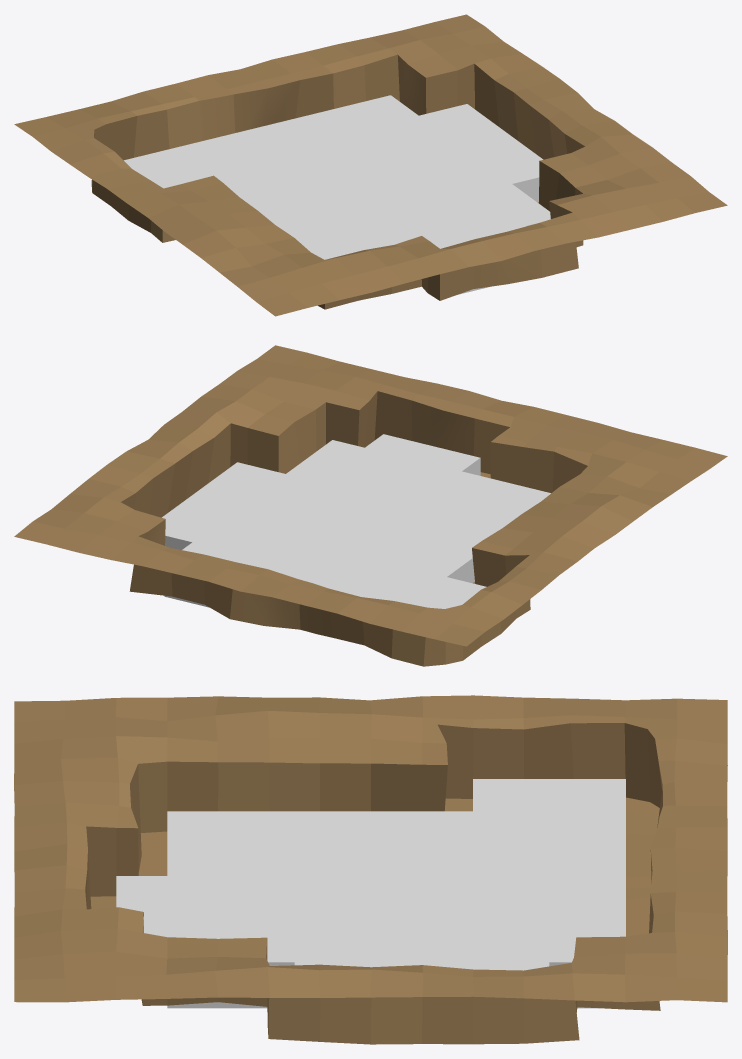
Rendered from Foundations.fbx.
3 renders of one model, top to bottom at view 1: azimuth 30°, elevation 25°; view 2: azimuth 150°, elevation 25°; view 3: azimuth 270°, elevation 25°, orthographic. The views are drawn at different scales.
Visible parts, largest first — view 1: Plane, Cube.003; view 2: Plane, Cube.003; view 3: Plane, Cube.003.
Boxes of the visible parts, x1,y1,x2,y2 form: Plane: (14, 14, 727, 316); Cube.003: (124, 95, 550, 301); Plane: (14, 345, 727, 666); Cube.003: (162, 434, 550, 629); Plane: (14, 695, 727, 1044); Cube.003: (116, 779, 625, 1008).
Size of the model in its own units: 2805 by 407 by 2802.
